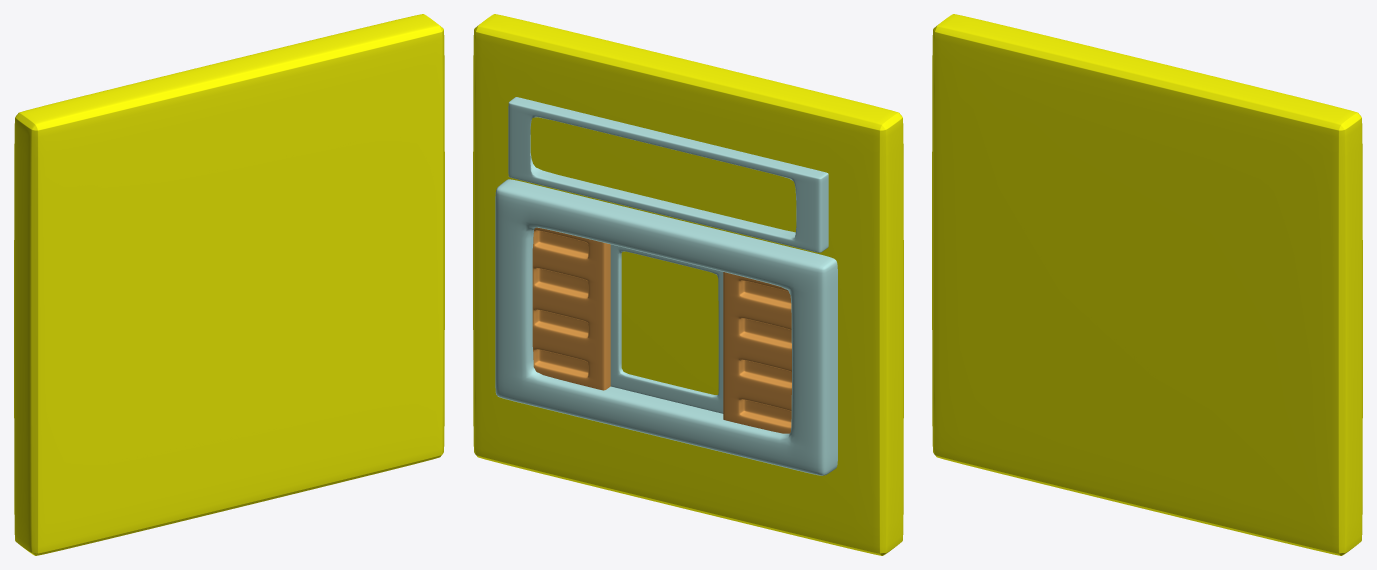
3 views of the same model, side by side, from view 1: azimuth 30°, elevation 25°; view 2: azimuth 150°, elevation 25°; view 3: azimuth 330°, elevation 25° (orthographic).
Visible parts, largest first — view 1: polySurface1321; view 2: polySurface1321; view 3: polySurface1321.
Part boxes in pixels (x1,y1,x2,y2): polySurface1321: [14, 14, 444, 555]; polySurface1321: [473, 14, 903, 555]; polySurface1321: [932, 14, 1362, 555].
Size of the model in its own units: 0.9995 by 0.9995 by 0.1552.
